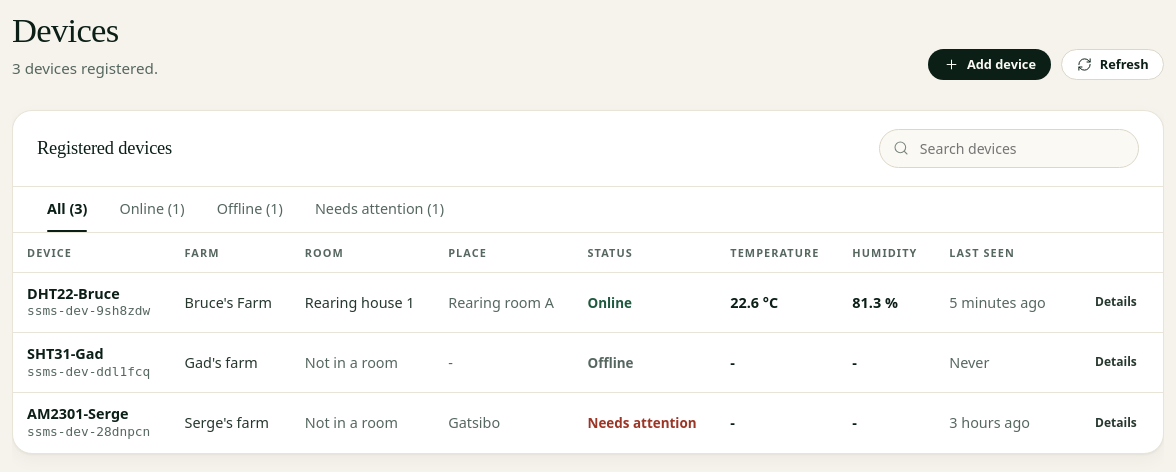
Test: Devices page › filters with tabs that show their counts
The image size is (1176, 472).
Check: the text "DHT22-Bruce" is shown, box [27,284,120,303]
Click the tab "Offline (1)". click: (250, 209)
box: [203,187,297,232]
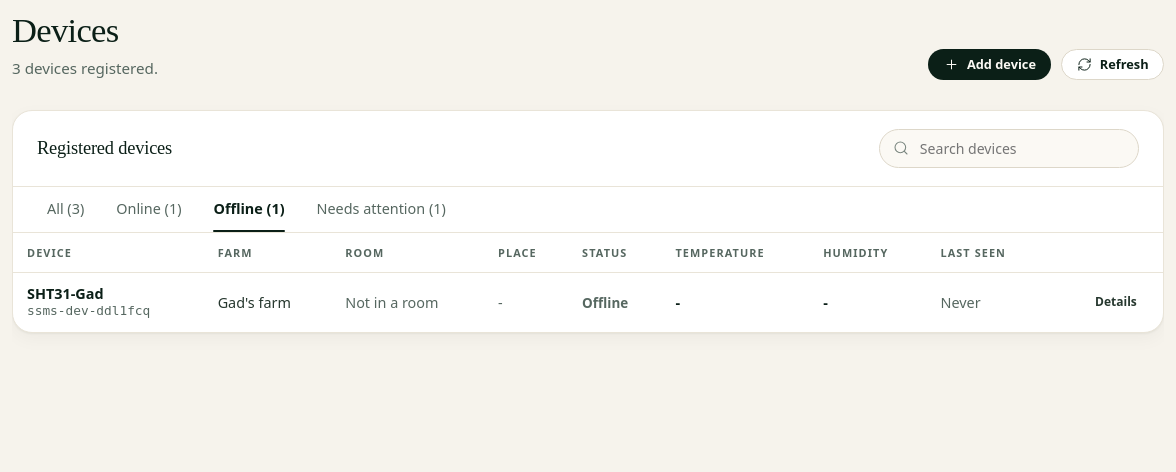
Check: the text "SHT31-Gad" is shown, box [27,284,104,303]
Check: the text "DHT22-Bruce" is gone
Click the tab "Needs attention (1)". click: (381, 209)
box: [302,187,460,232]
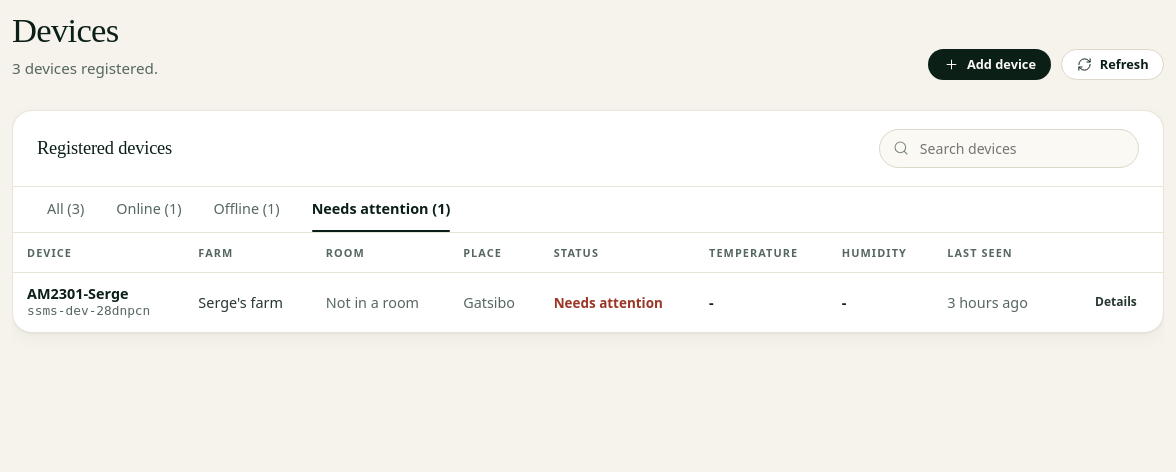
Check: the text "AM2301-Serge" is shown, box [27,284,128,303]
